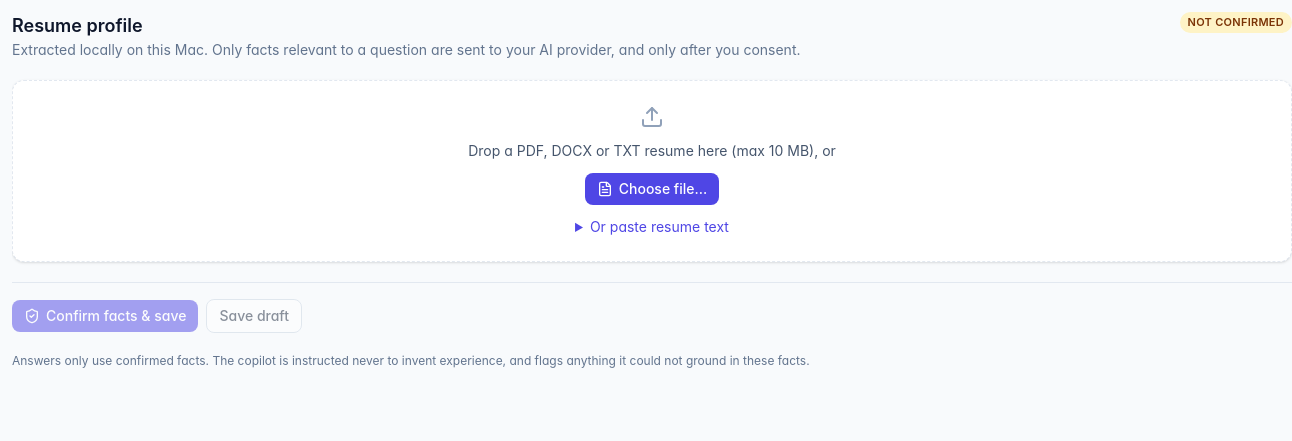
Test case: ResumeProfileEditor › shows import errors
Click the button with test id "import-resume": (652,189) 585,173 -> 719,205
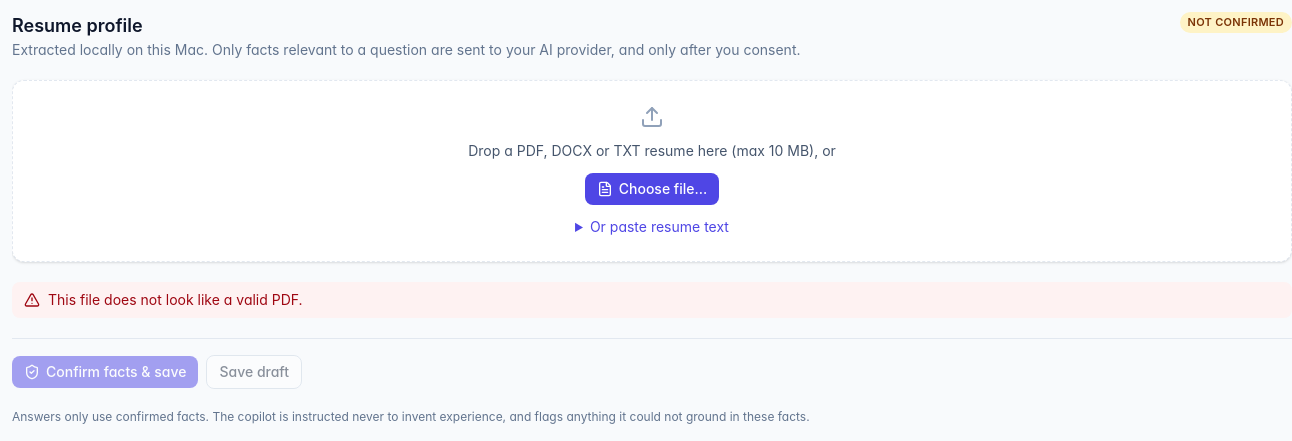
Check: the message shows "valid PDF", box 48,291 -> 303,308
